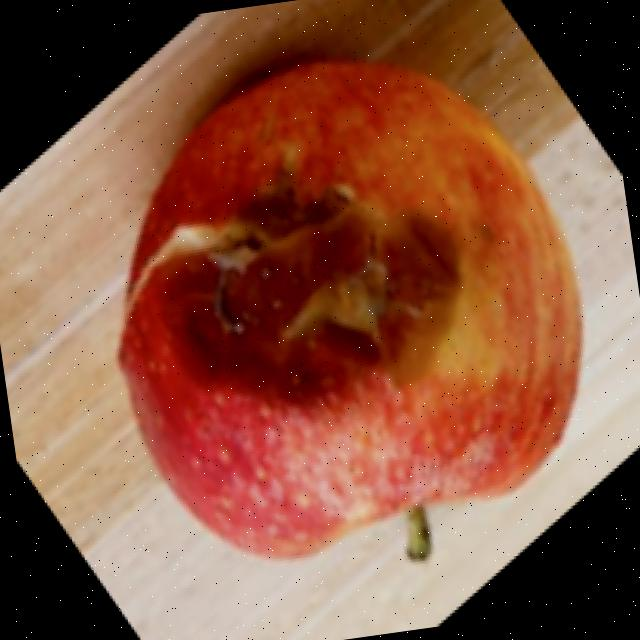Rotten: (73, 23, 620, 596)
